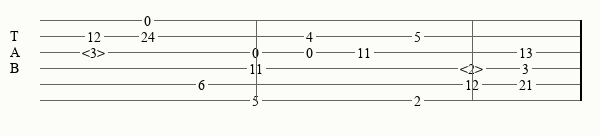0: (144, 13, 155, 27), (252, 45, 263, 59), (306, 45, 317, 59)
11: (249, 61, 267, 75), (357, 45, 375, 59)
12: (87, 29, 105, 43), (465, 77, 483, 91)
13: (519, 45, 537, 59)
2: (414, 93, 425, 107)
21: (519, 77, 537, 91)
24: (141, 29, 159, 43)
3: (522, 61, 533, 75)
4: (306, 29, 317, 43)
5: (252, 93, 263, 107), (414, 29, 425, 43)
6: (198, 77, 209, 91)
harmonic: (82, 45, 109, 59), (460, 61, 487, 75)
